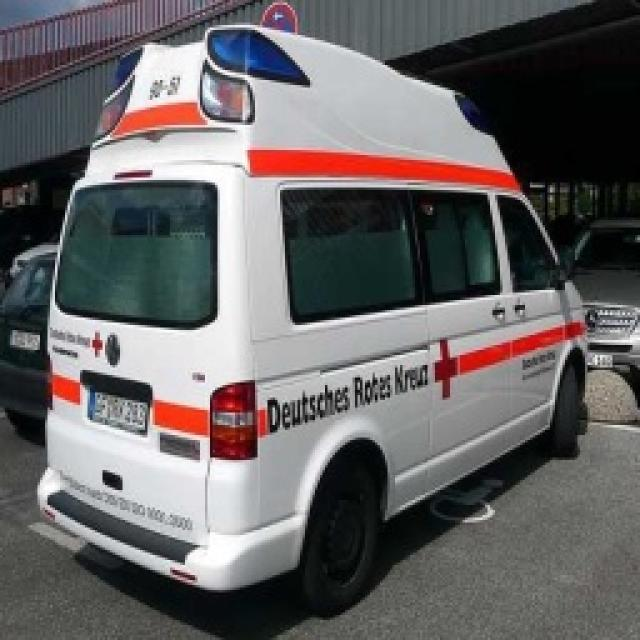emergency-vehicle: (30, 0, 590, 620)
